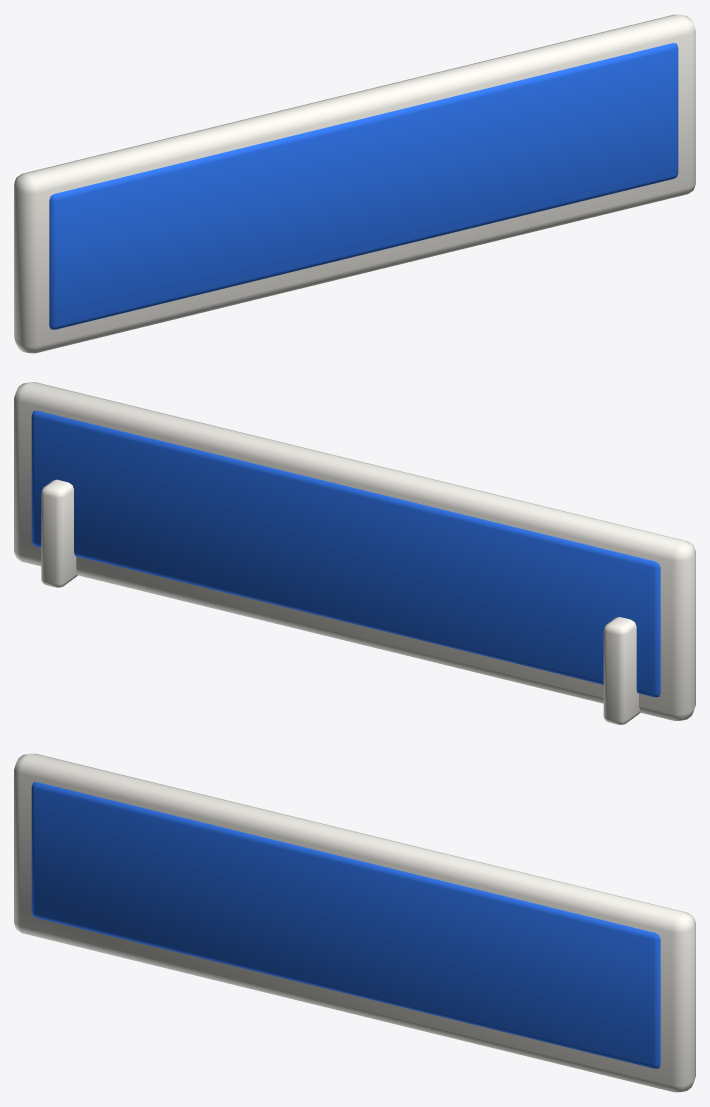
The model's file is adboard.glb.
3 views of the same model, one above another, from view 1: azimuth 30°, elevation 25°; view 2: azimuth 150°, elevation 25°; view 3: azimuth 330°, elevation 25° (orthographic).
Visible parts, largest first — view 1: AdBoard; view 2: AdBoard; view 3: AdBoard.
Part boxes in pixels (<box>): AdBoard: <box>14,14,695,353</box>; AdBoard: <box>14,382,695,724</box>; AdBoard: <box>14,753,695,1092</box>.
Size of the model in its own units: 3.6 by 0.9 by 0.32.
